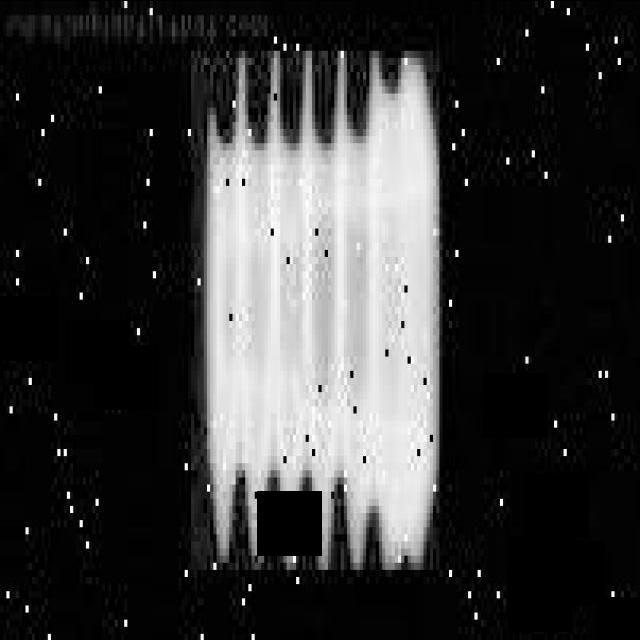Nobel Biocare Implant: (191, 50, 439, 569)
